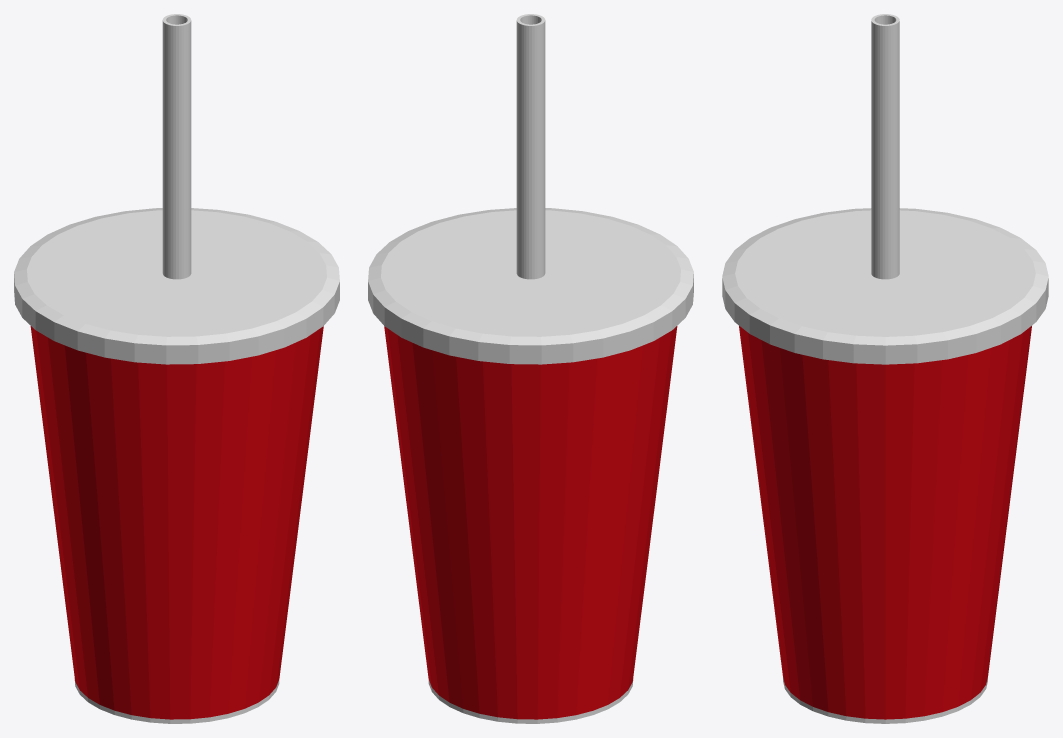
File: SodaSpeedUp.fbx
3 renders of one model, left to right at view 1: azimuth 30°, elevation 25°; view 2: azimuth 150°, elevation 25°; view 3: azimuth 270°, elevation 25°, orthographic.
Parts seen in each view (by area): view 1: Cylinder; view 2: Cylinder; view 3: Cylinder.
Boxes of the visible parts, x1,y1,x2,y2 form: Cylinder: [14, 14, 339, 723]; Cylinder: [368, 14, 693, 723]; Cylinder: [722, 14, 1048, 723].
Size of the model in its own units: 17.29 by 38.59 by 17.29.
